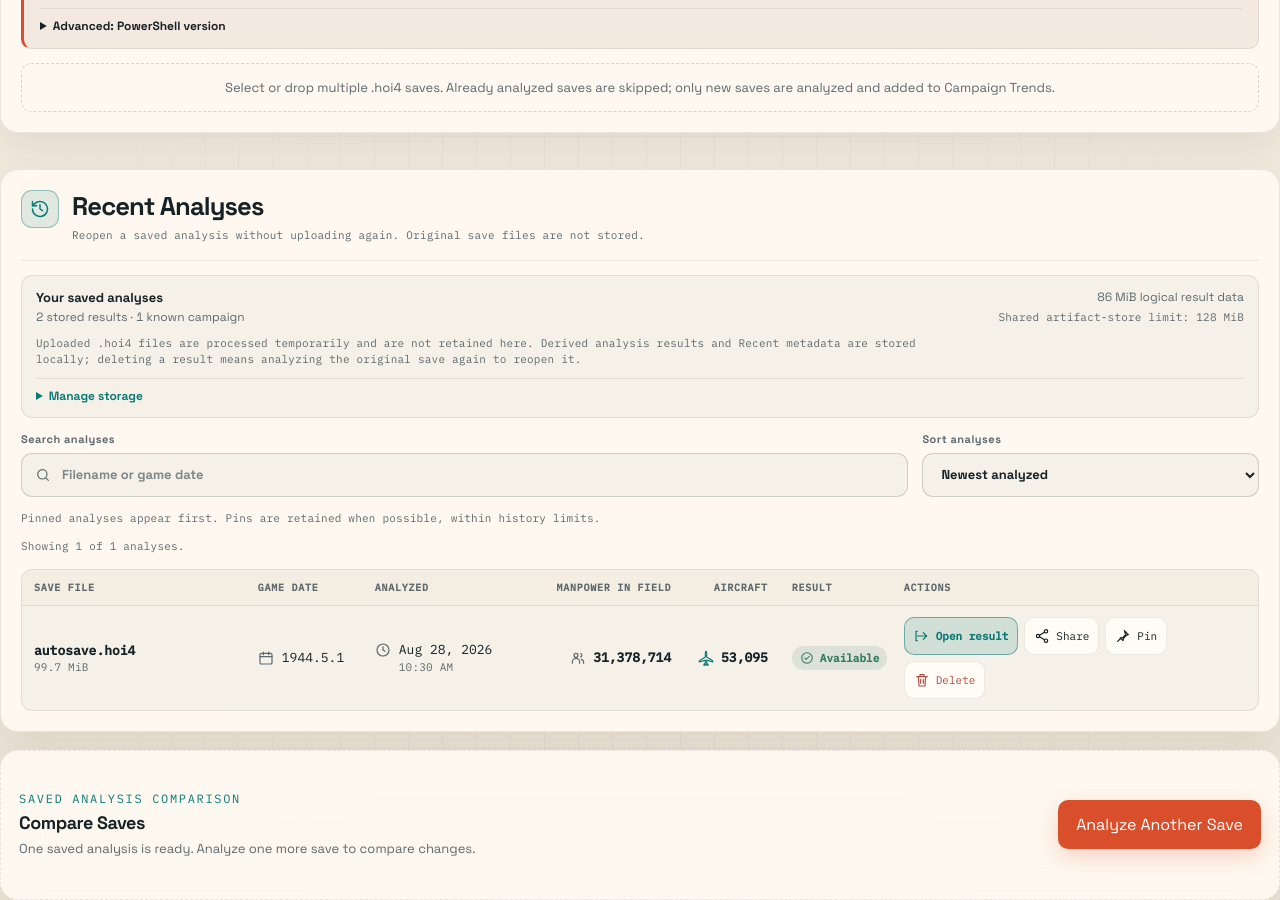
Test case: Recent Analyses › Compare follows the full overview and precedes All countries without hiding the no-result comparison
(page scrolled)
Expected: the element with class "analysis-comparison-controls" is shown, [0, 750, 1279, 899]
Click the button with aria-label "Open analysis autosave.hoi4". click: point(961, 636)
box: [904, 617, 1018, 655]
(page scrolled)
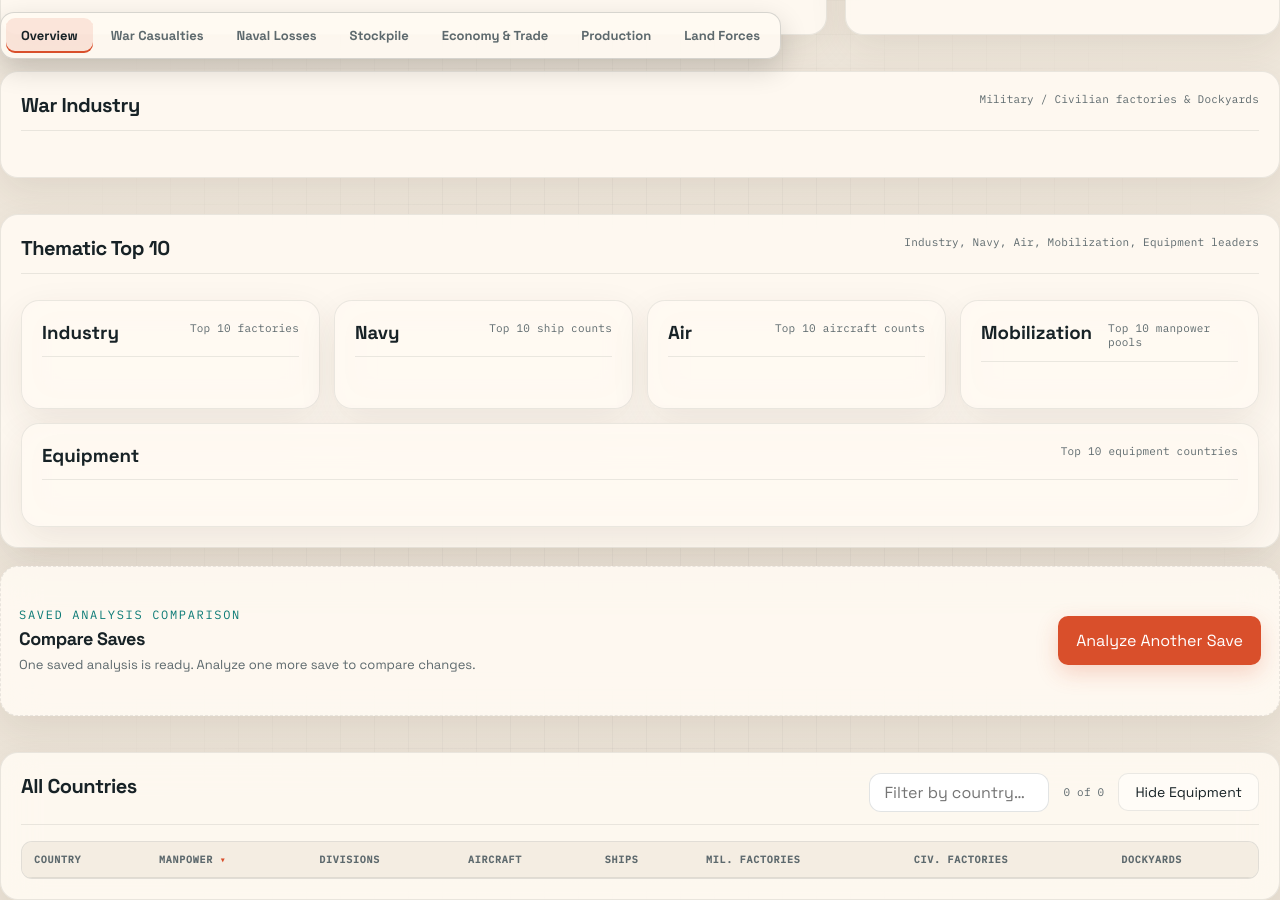
Expected: the element that starts with "All Countries" is shown, [0, 752, 1279, 899]
